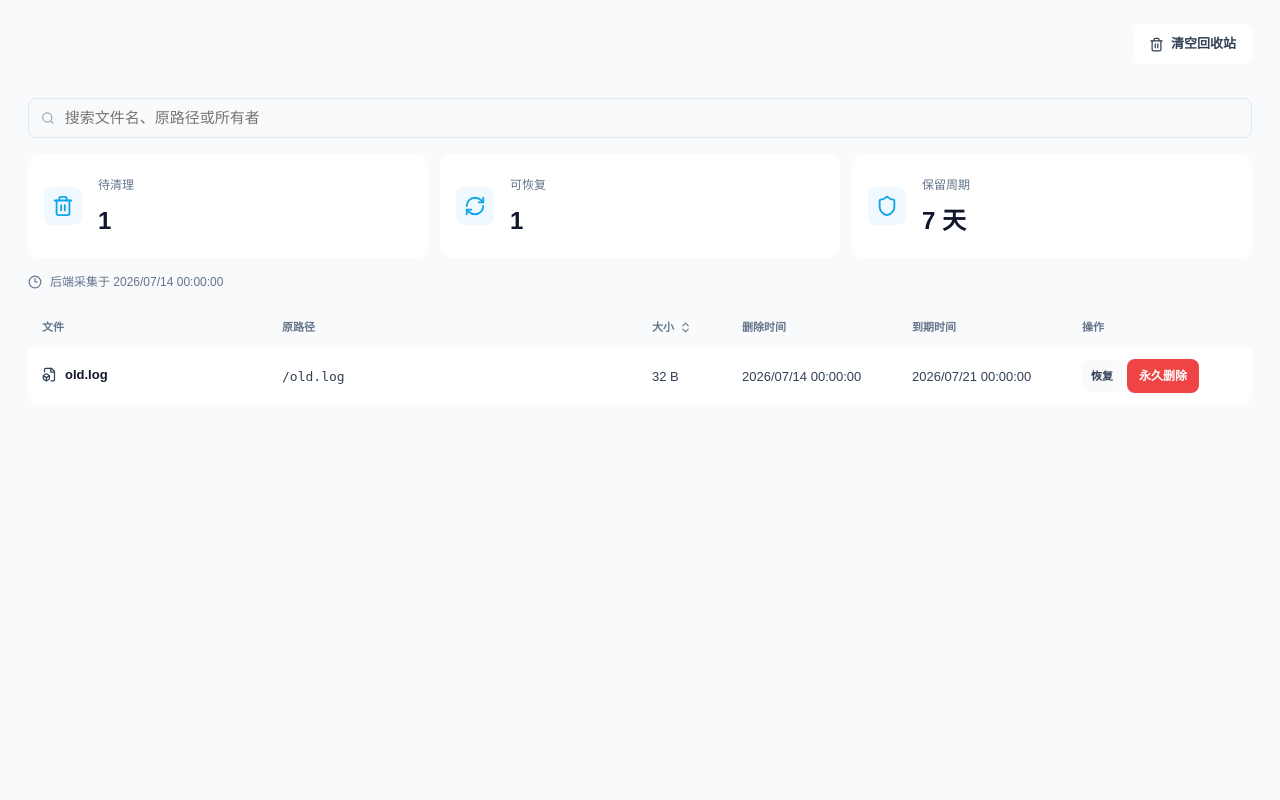
Test: files trash page › requires confirmation before the real permanent-delete request
The width and height of the screenshot is (1280, 800).
Expected: the text "old.log" is shown, [65,365,108,384]
Click the button "永久删除".
click(1163, 376)  # box [1127,359,1199,393]
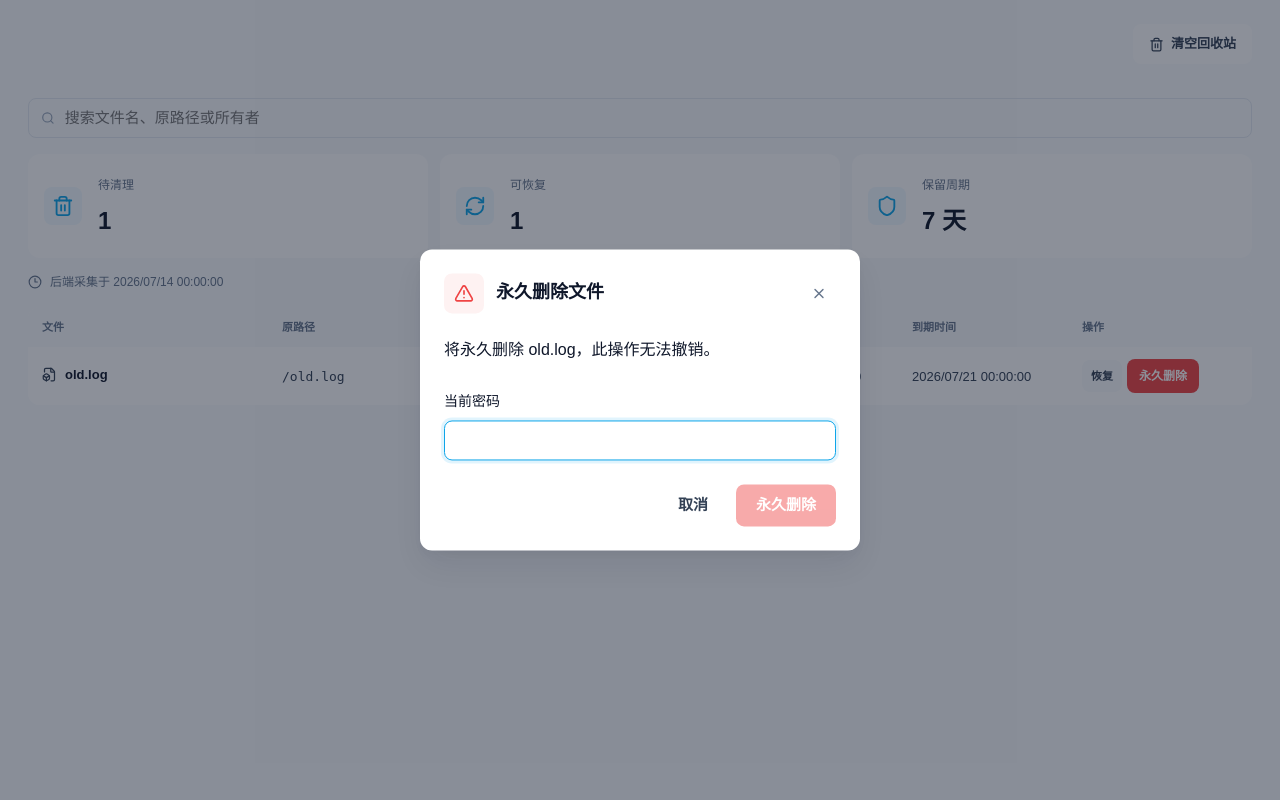
Now the button "永久删除" is disabled, box [736,484,836,526]
Type "current password" into the password field labelled "当前密码".
click(640, 440); type("current password")  # box [444,420,836,460]
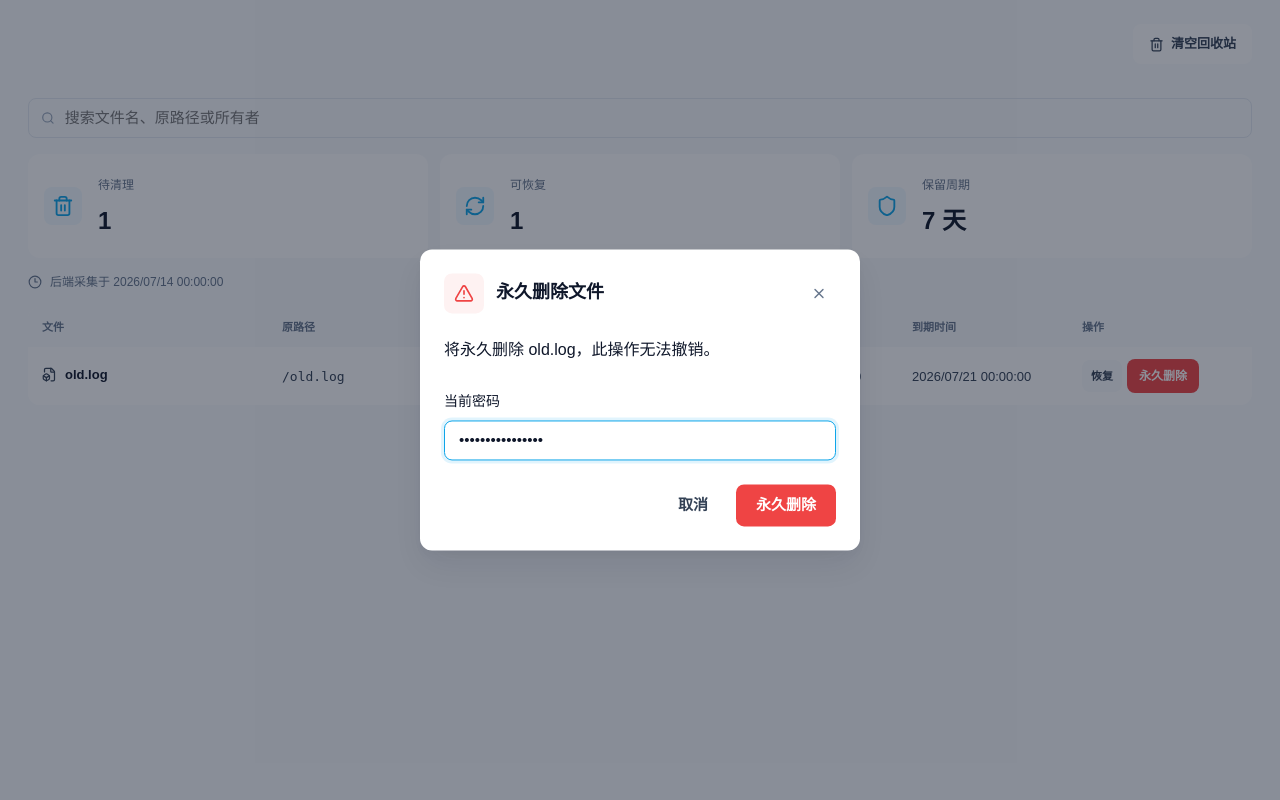
Now the button "永久删除" is enabled
Click the button "永久删除".
click(786, 505)  # box [736,484,836,526]
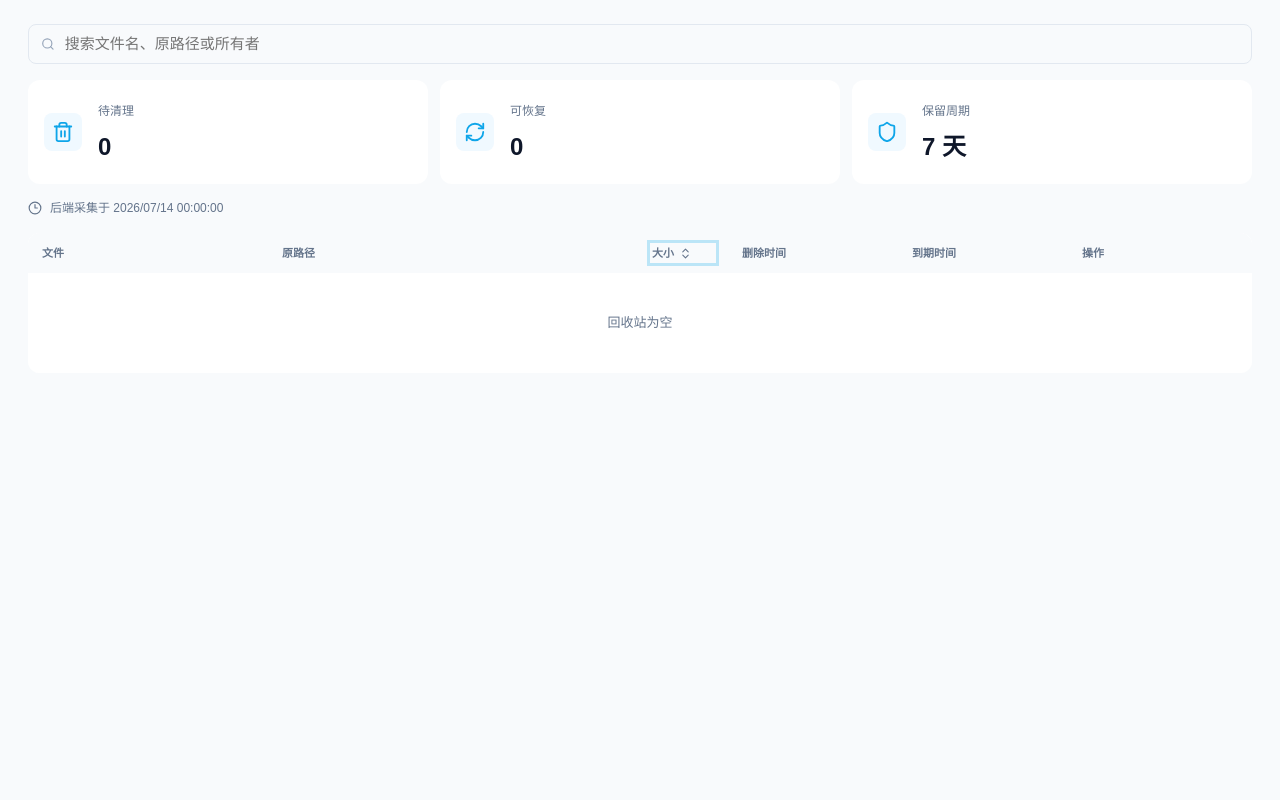
Now the text "永久删除文件" is gone
